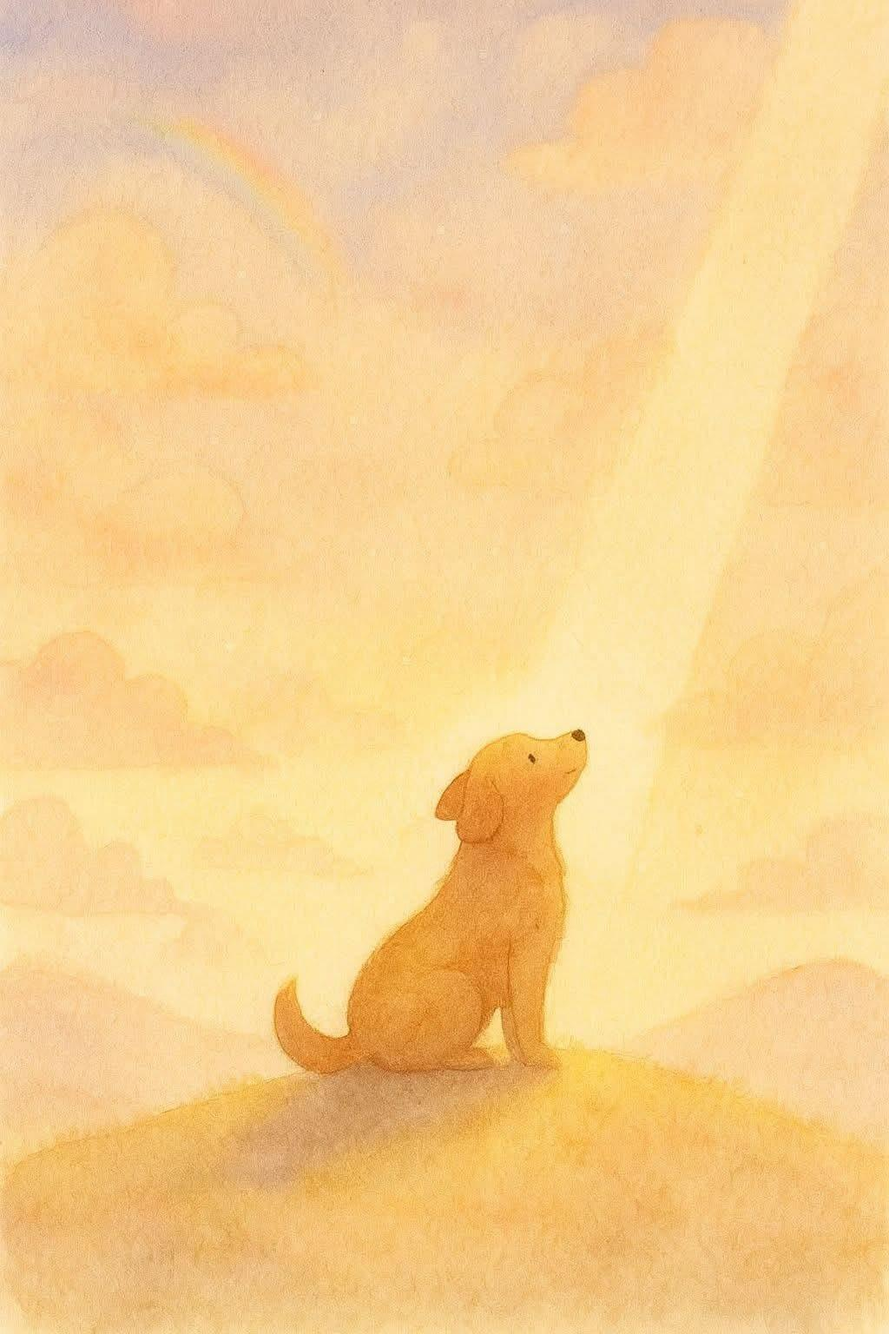puppy-dog: (271, 730, 590, 1077)
